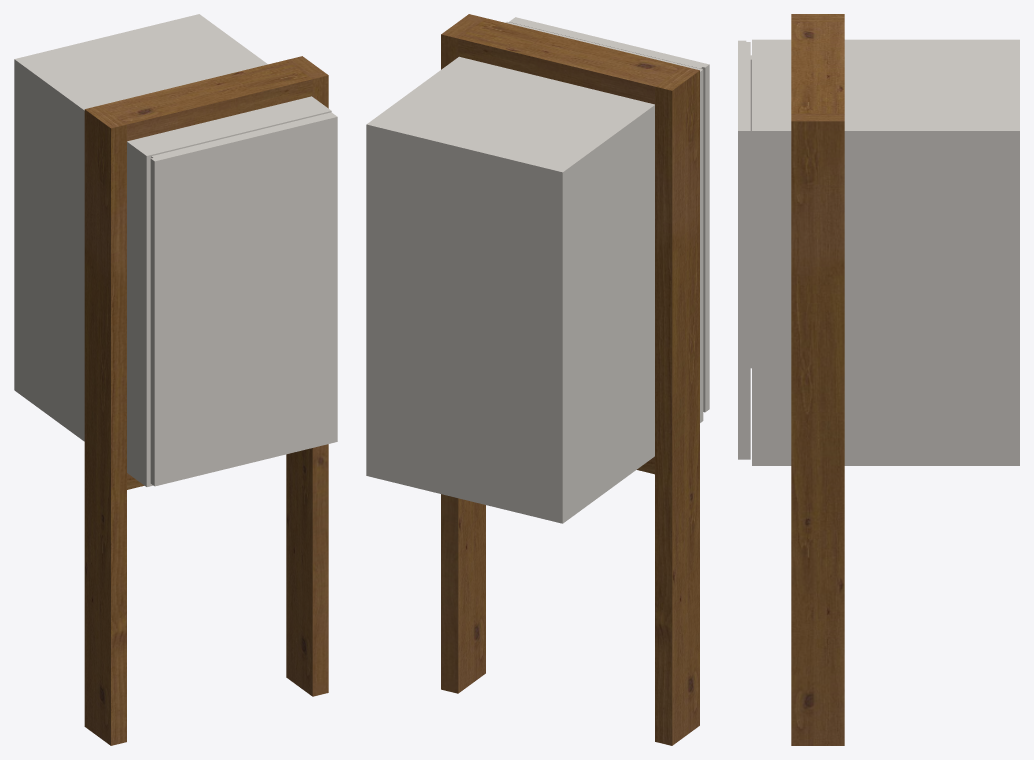
Rendered from de-boxstand_naturalpine.fbx.
3 views of the same model, side by side, from view 1: azimuth 30°, elevation 25°; view 2: azimuth 150°, elevation 25°; view 3: azimuth 270°, elevation 25° (orthographic). The views are drawn at different scales.
Parts seen in each view (by area): view 1: de-boxstand-naturalpine; view 2: de-boxstand-naturalpine; view 3: de-boxstand-naturalpine.
Part boxes in pixels (box(x1,y1,x2,y2)): de-boxstand-naturalpine: box(14, 14, 337, 745); de-boxstand-naturalpine: box(366, 14, 709, 745); de-boxstand-naturalpine: box(738, 14, 1019, 745).
Bounding box in the file's own units: 40.6 × 110 × 45.
Materials: 3 (2 with a texture image).
